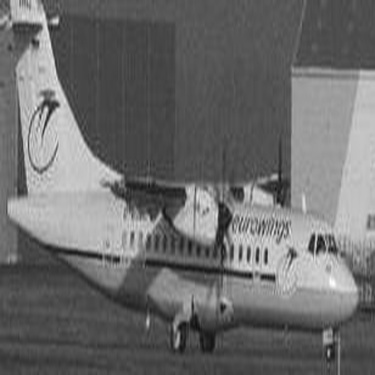airplane: (6, 5, 369, 367)
